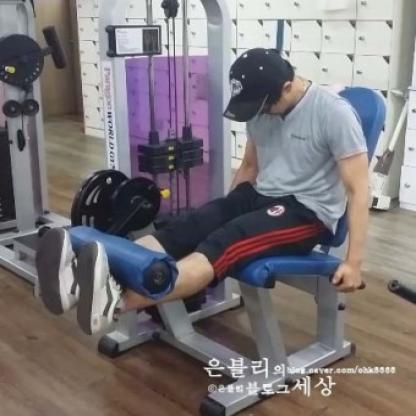leg extension: (15, 0, 386, 413)
